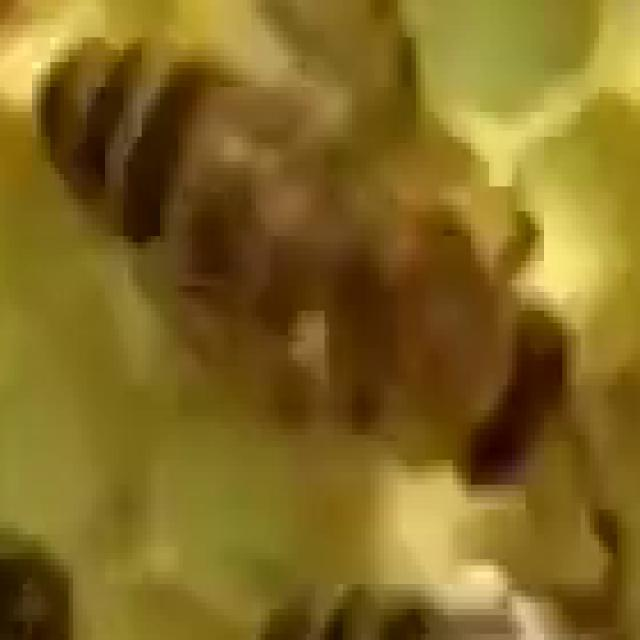honeybee: (27, 38, 570, 524)
